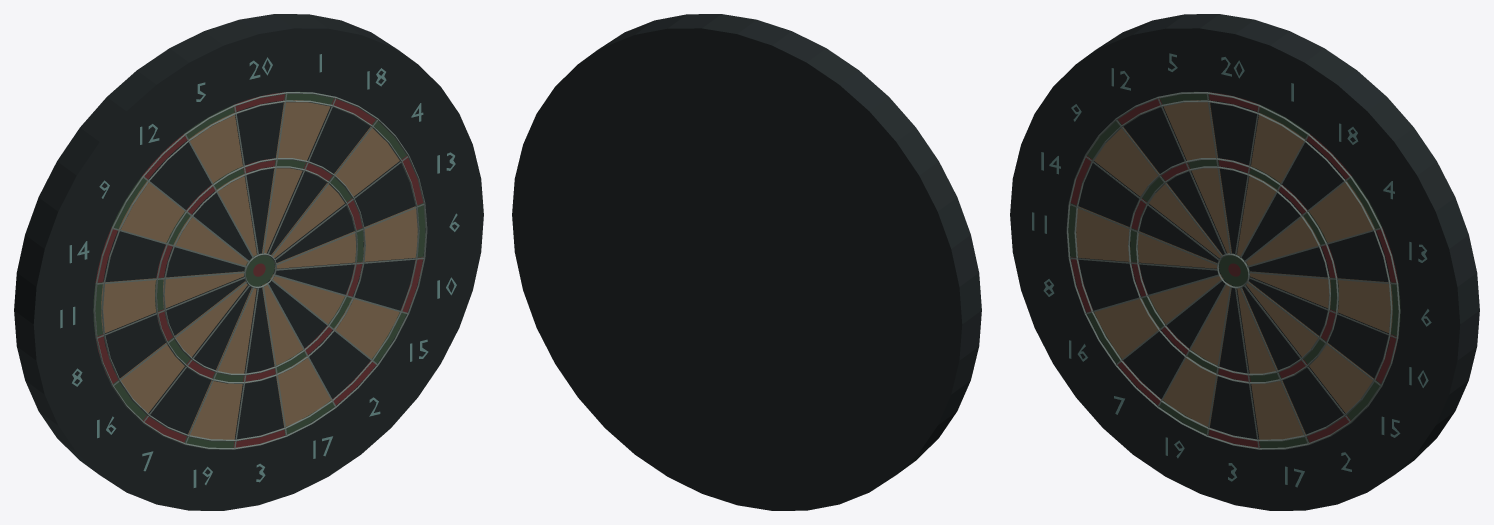
The model's file is tabla_darts.glb.
3 views of the same model, side by side, from view 1: azimuth 30°, elevation 25°; view 2: azimuth 150°, elevation 25°; view 3: azimuth 330°, elevation 25° (orthographic).
Visible parts, largest first — view 1: Tabla; view 2: Tabla; view 3: Tabla.
Part boxes in pixels (x1,y1,x2,y2): Tabla: (14,14,483,510); Tabla: (512,14,981,510); Tabla: (1010,14,1479,510).
Bounding box in the file's own units: 0.461 × 0.461 × 0.039.
